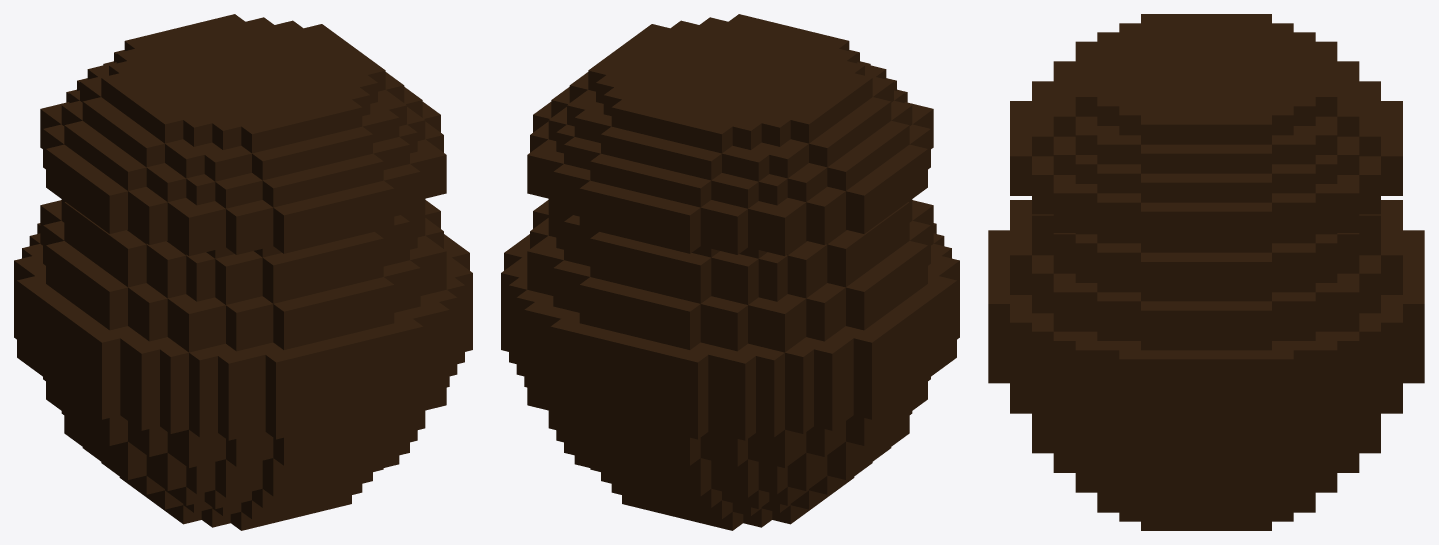
File: Korean_item_02.FBX
3 views of the same model, side by side, from view 1: azimuth 30°, elevation 25°; view 2: azimuth 150°, elevation 25°; view 3: azimuth 270°, elevation 25° (orthographic). The views are drawn at different scales.
Visible parts, largest first — view 1: Voxel_Korean_traditional village-24; view 2: Voxel_Korean_traditional village-24; view 3: Voxel_Korean_traditional village-24.
Boxes of the visible parts, x1,y1,x2,y2 form: Voxel_Korean_traditional village-24: [14, 14, 472, 530]; Voxel_Korean_traditional village-24: [501, 14, 959, 530]; Voxel_Korean_traditional village-24: [988, 14, 1424, 530].
Size of the model in its own units: 20 by 21 by 20.
1 material, 1 textured.
